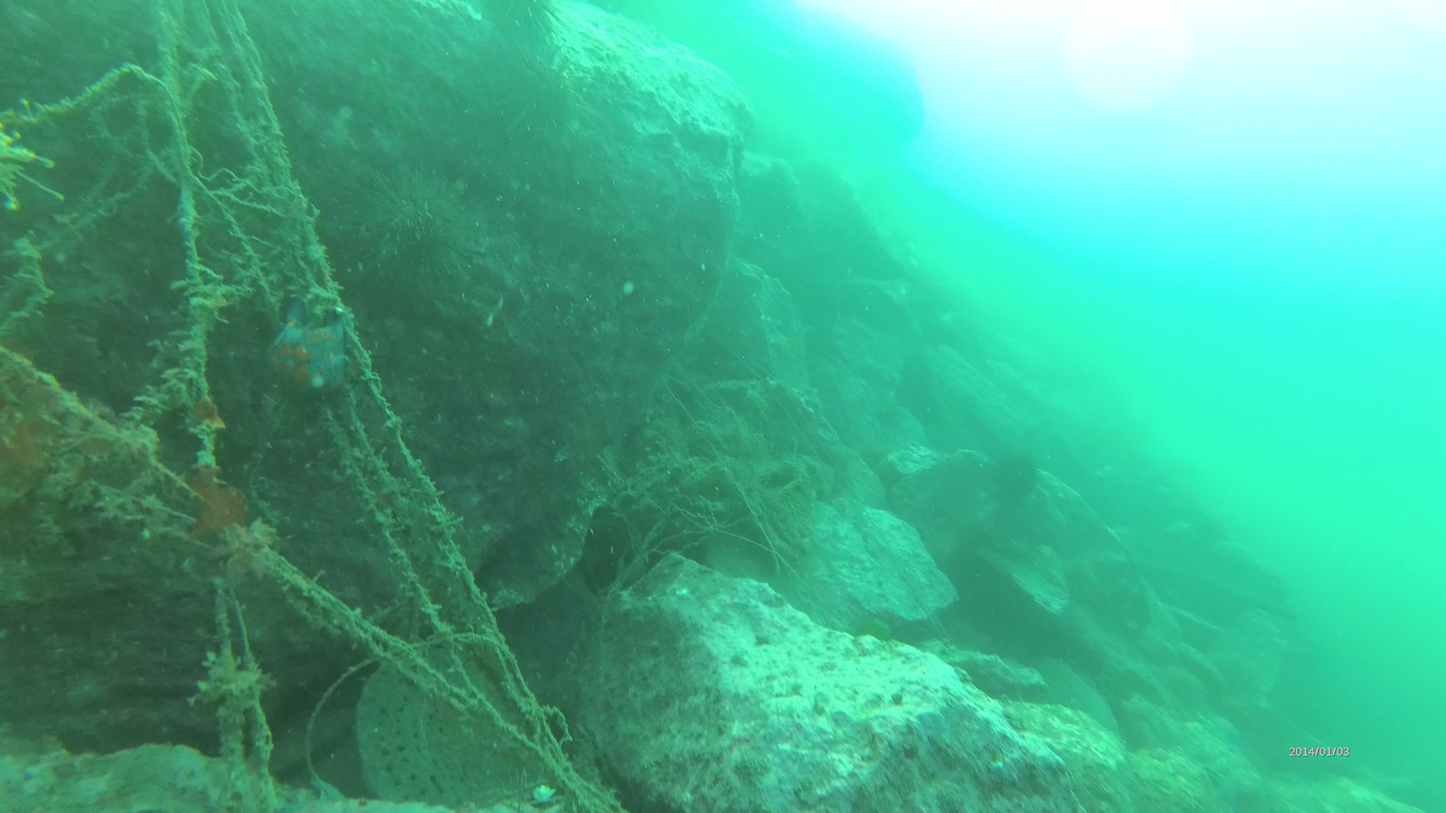holothurian: (262, 304, 352, 406)
starfish: (339, 163, 472, 290), (496, 48, 584, 145), (473, 0, 576, 44)
